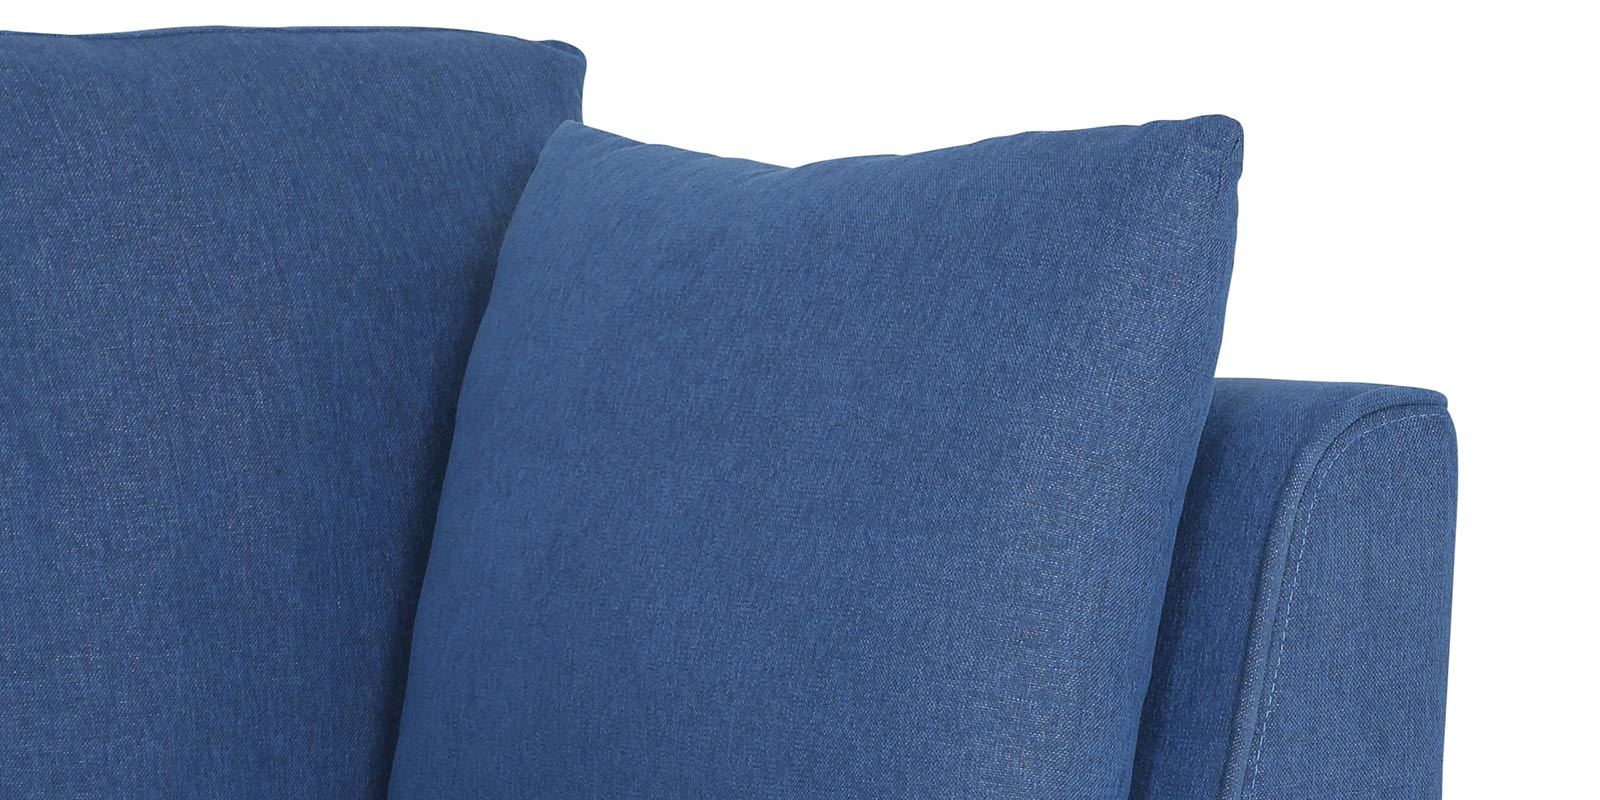Miranda Three Seater Sofa in Denim Blue Colour by CasaCraft: (5, 31, 1457, 800)
